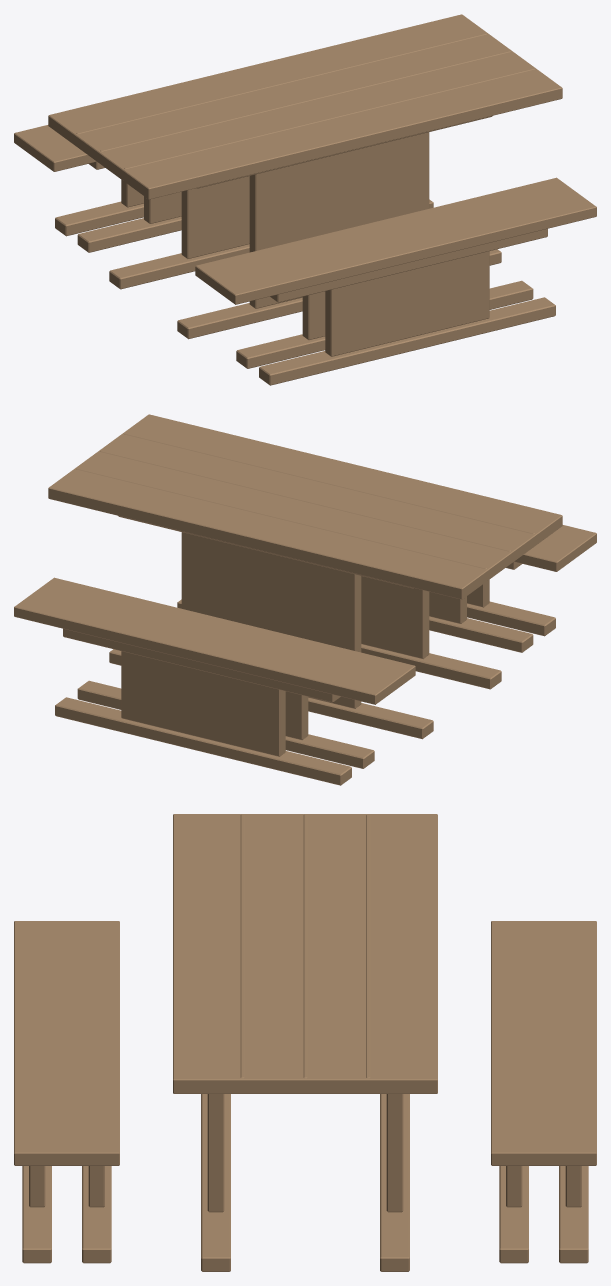
Rendered from bar-pub-and-brewery-taproom-refectory-table-and-benche-172bcbde.glb.
3 views of the same model, one above another, from view 1: azimuth 30°, elevation 25°; view 2: azimuth 150°, elevation 25°; view 3: azimuth 270°, elevation 25° (orthographic). The views are drawn at different scales.
Parts seen in each view (by area): view 1: refectory-table-and-benches; view 2: refectory-table-and-benches; view 3: refectory-table-and-benches.
Boxes of the visible parts, bbox=[...] form: refectory-table-and-benches: bbox=[14, 14, 596, 385]; refectory-table-and-benches: bbox=[14, 414, 596, 785]; refectory-table-and-benches: bbox=[14, 814, 596, 1271].
Bounding box in the file's own units: 1.9 × 0.752 × 1.76.
